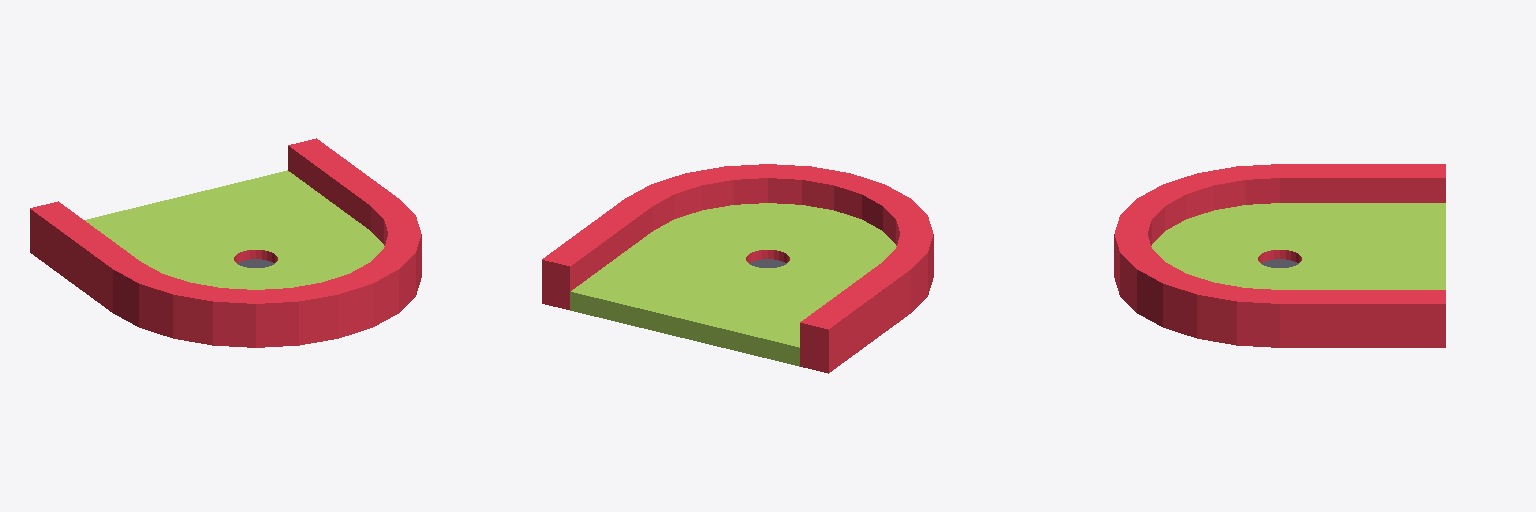
File: holeRound.obj
3 views of the same model, side by side, from view 1: azimuth 30°, elevation 25°; view 2: azimuth 150°, elevation 25°; view 3: azimuth 270°, elevation 25° (orthographic).
Visible parts, largest first — view 1: holeRound; view 2: holeRound; view 3: holeRound.
Boxes of the visible parts, x1=… form: holeRound: x1=30, y1=138, x2=421, y2=347; holeRound: x1=542, y1=164, x2=933, y2=373; holeRound: x1=1114, y1=164, x2=1445, y2=347.
Bounding box in the file's own units: 0.9999 × 0.1467 × 0.9999.